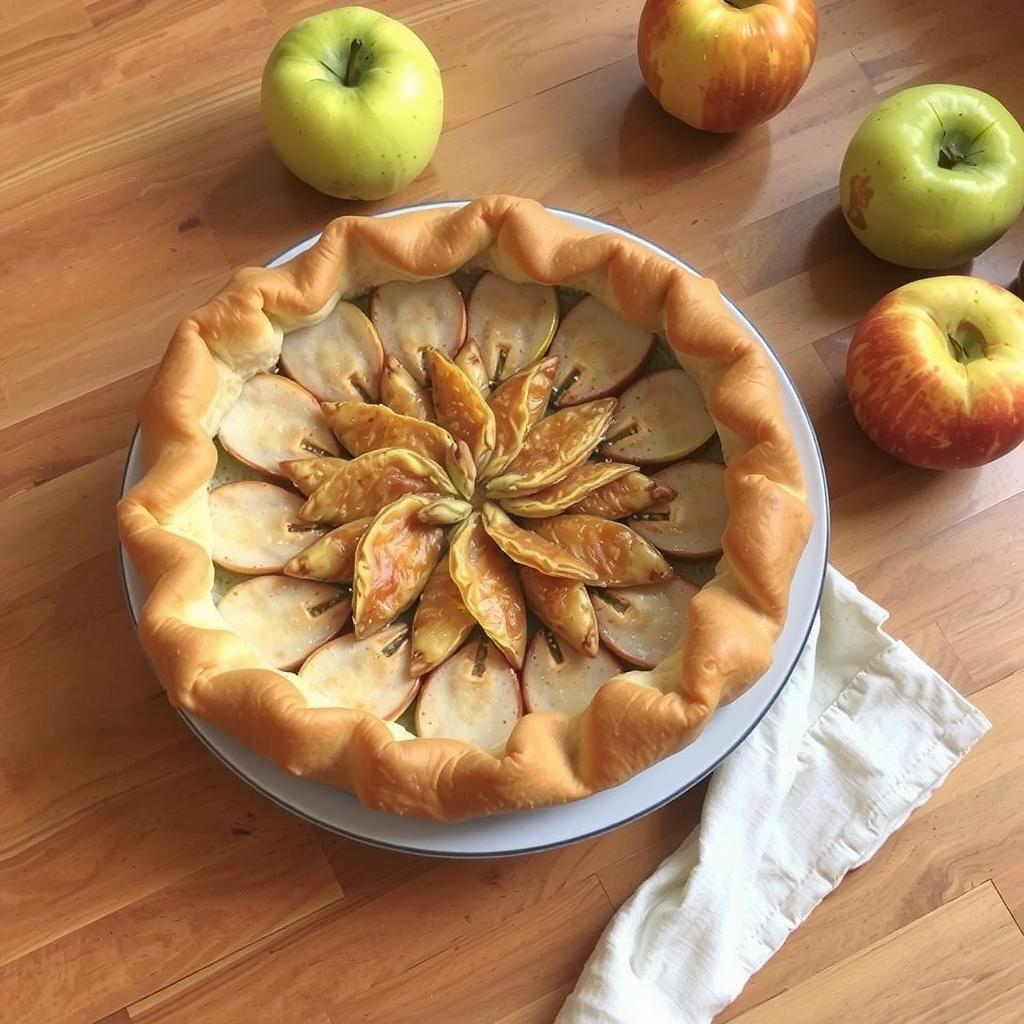pie: (109, 187, 826, 834)
